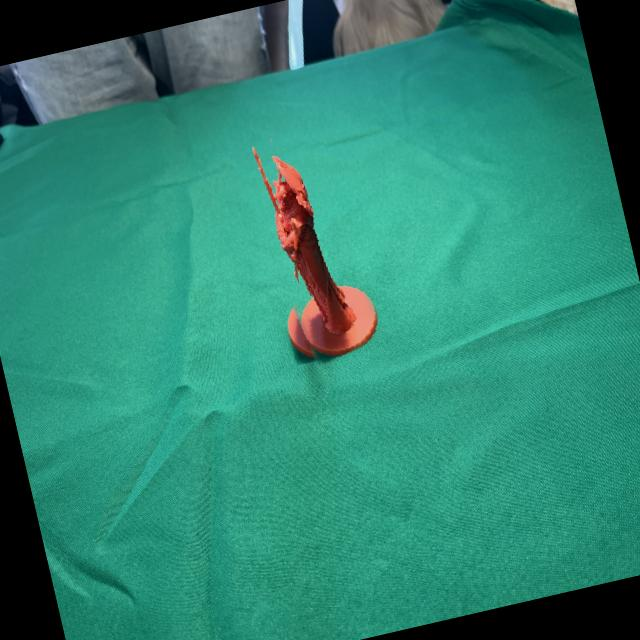amon: (236, 121, 380, 370)
